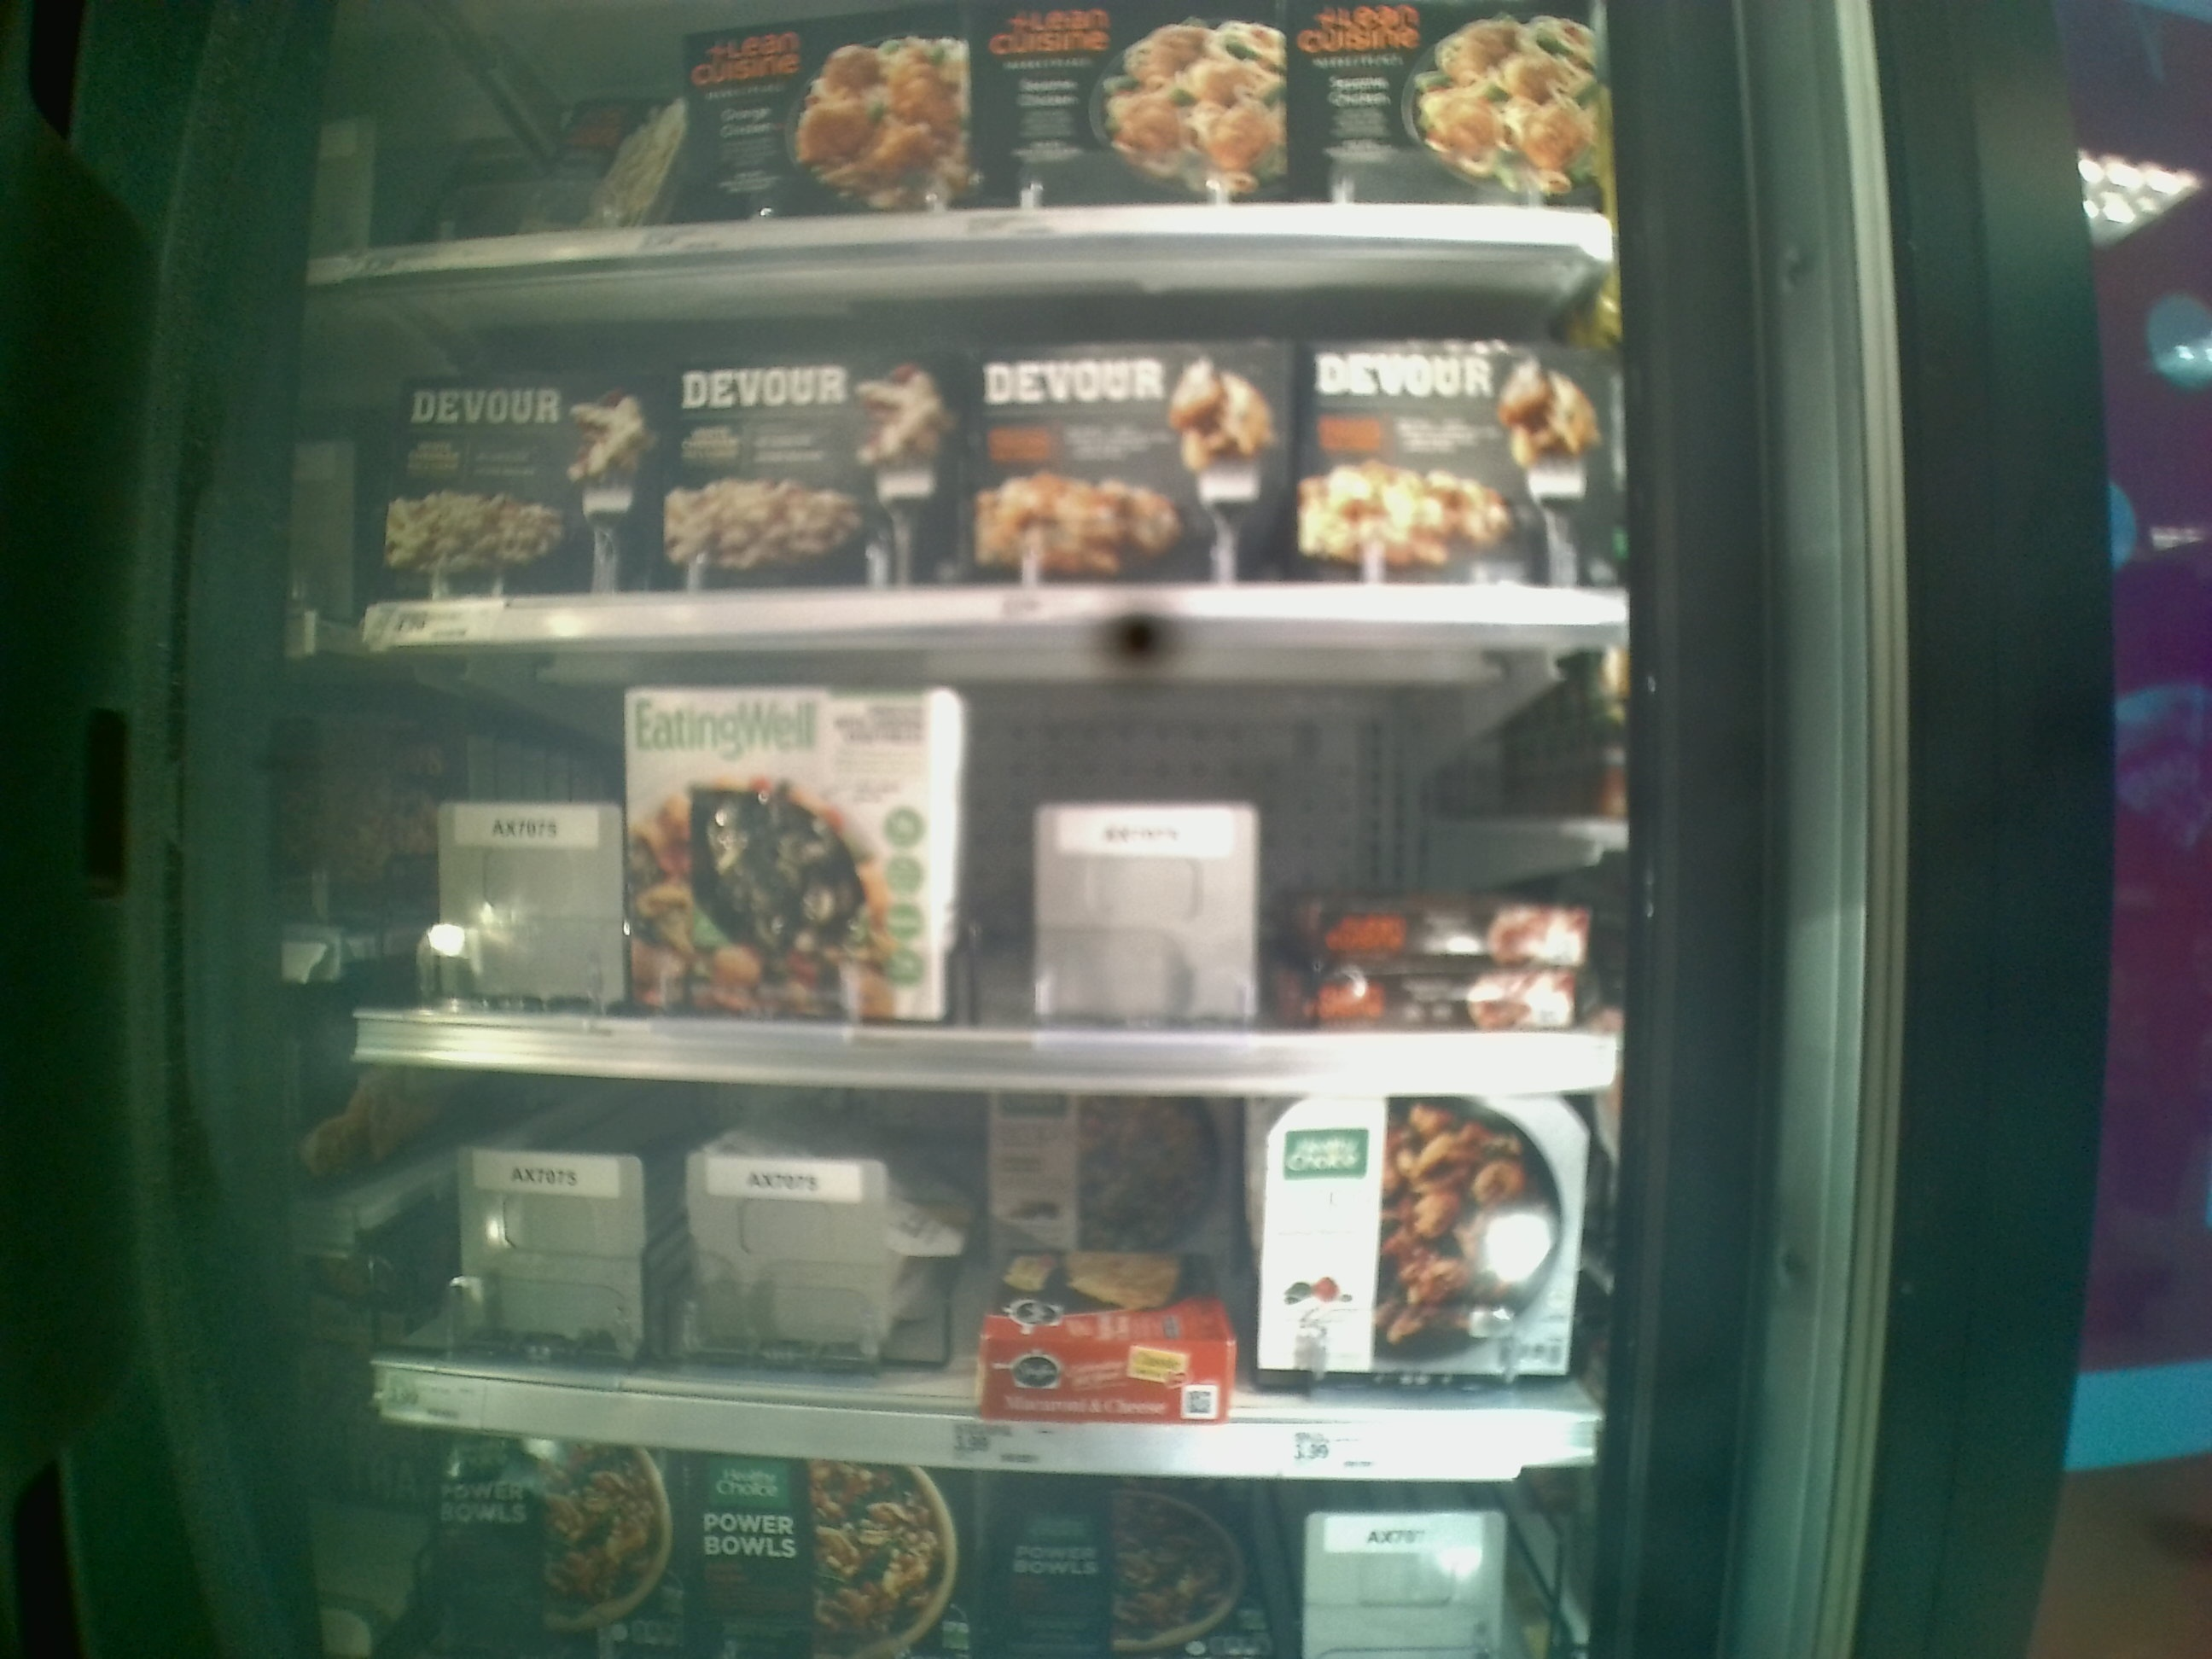shelf: (341, 627, 1634, 1094), (359, 1054, 1623, 1480), (310, 244, 1618, 633)
